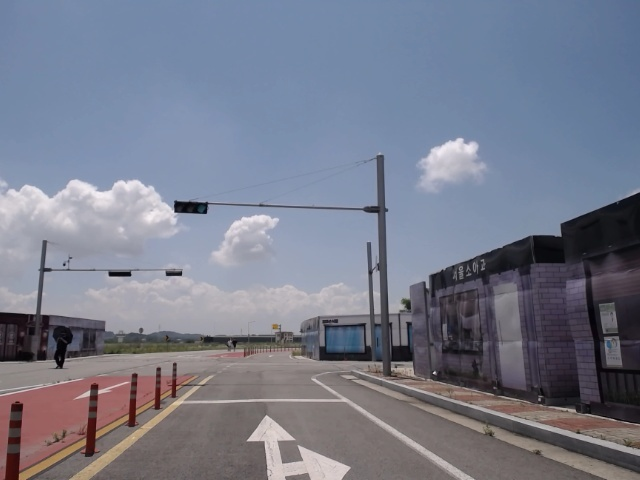green_3: (176, 202, 206, 214)
